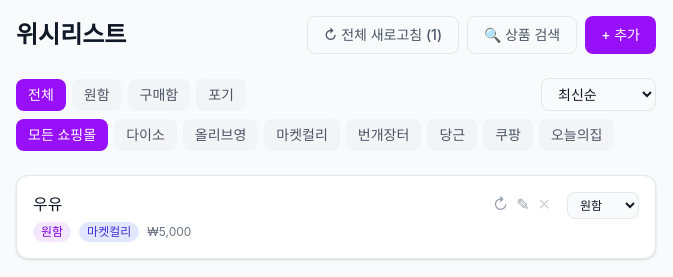
Scenario: WishlistPage › 새로고침 버튼은 가격을 다시 확인해 변동과 품절을 보여준다
The width and height of the screenshot is (673, 277).
Step 1. Click the button named "가격·품절 다시 확인" → {"x": 501, "y": 204}, box [489,192,512,216]
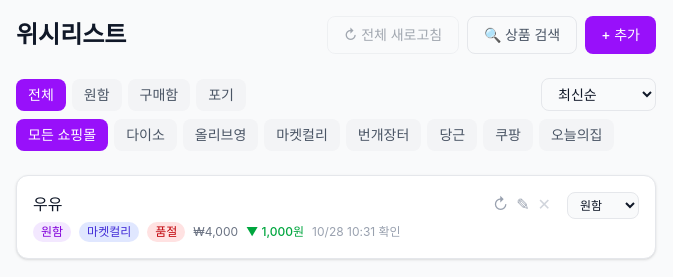
Check: the text "▼ 1,000원" is shown, box [246,224,304,240]
Check: the text "₩4,000" is shown, box [193,224,238,240]
Check: the text "품절" is shown, box [147,222,185,242]
